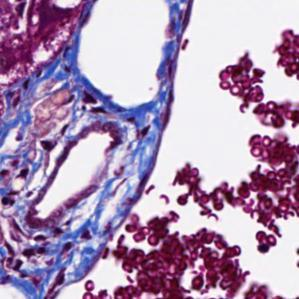inflammation: (0, 232, 65, 287), (0, 157, 34, 210)
